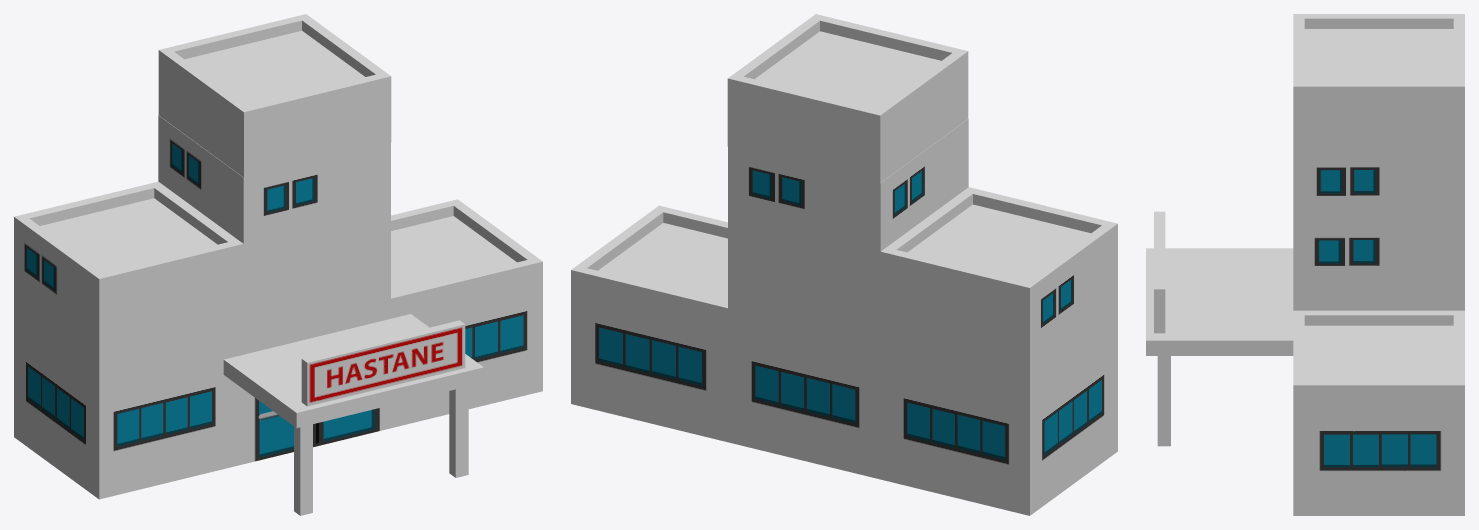
File: hastane.fbx
3 views of the same model, side by side, from view 1: azimuth 30°, elevation 25°; view 2: azimuth 150°, elevation 25°; view 3: azimuth 270°, elevation 25° (orthographic). The views are drawn at different scales.
Parts seen in each view (by area): view 1: Cube; view 2: Cube; view 3: Cube.
Boxes of the visible parts, x1,y1,x2,y2 form: Cube: (14, 14, 542, 515); Cube: (571, 14, 1117, 515); Cube: (1146, 14, 1464, 515).
Size of the model in its own units: 602 by 456 by 371.
Materials: 1 (1 with a texture image).
